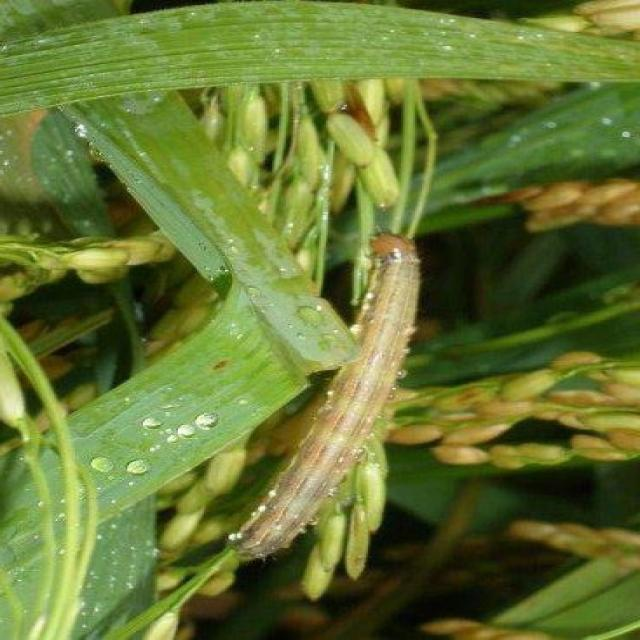army worm: (215, 232, 426, 566)
